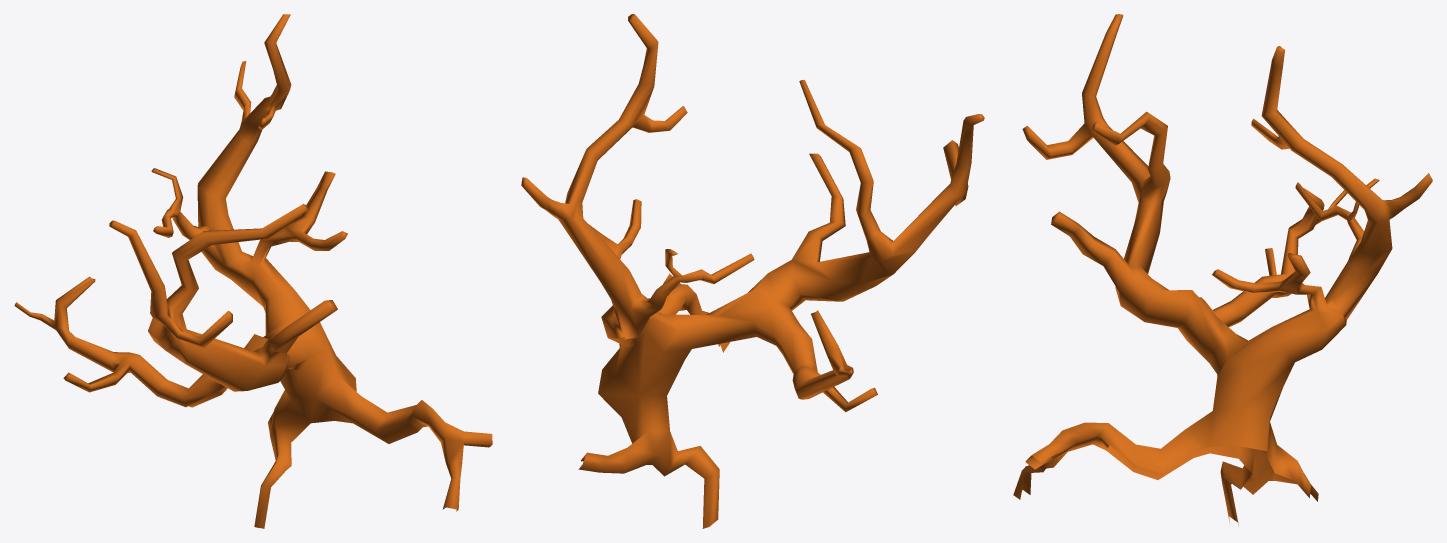
The model's file is baum01.FBX.
The picture shows the model from 3 angles, left to right: view 1: azimuth 30°, elevation 25°; view 2: azimuth 150°, elevation 25°; view 3: azimuth 270°, elevation 25°; orthographic projection. The views are drawn at different scales.
Parts seen in each view (by area): view 1: baum01; view 2: baum01; view 3: baum01.
Part boxes in pixels (x1,y1,x2,y2): baum01: [14, 14, 492, 528]; baum01: [521, 14, 984, 528]; baum01: [1013, 14, 1432, 526].
Bounding box in the file's own units: 37.23 × 50.95 × 38.33.
